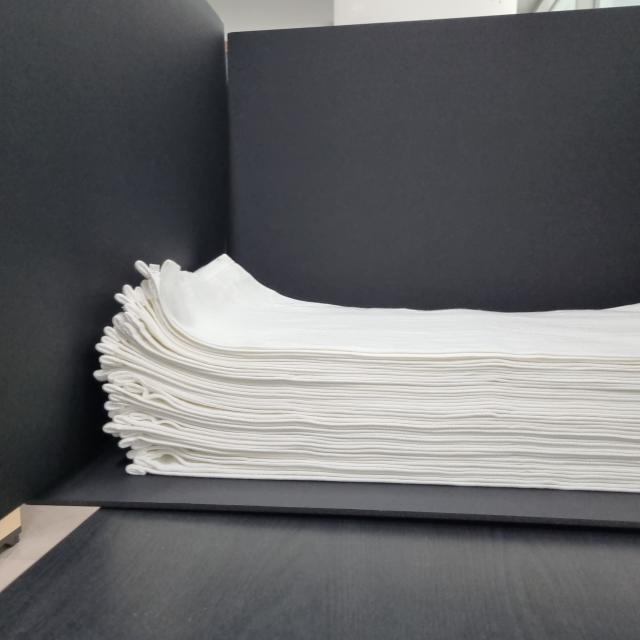not_50count_towel: (90, 233, 640, 502)
